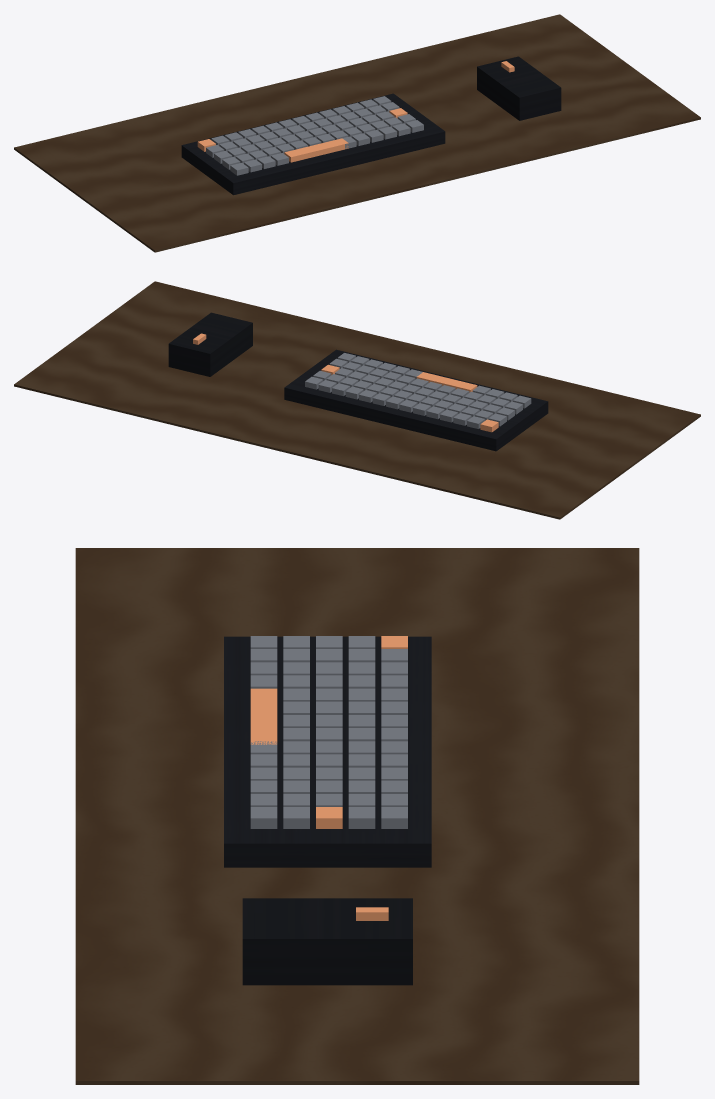
Rendered from mechanical_keyboard.glb.
The picture shows the model from 3 angles, top to bottom: view 1: azimuth 30°, elevation 25°; view 2: azimuth 150°, elevation 25°; view 3: azimuth 270°, elevation 25°; orthographic projection. The views are drawn at different scales.
Parts seen in each view (by area): view 1: Deskmat, Keycaps, KeyboardCase, Mouse, KeycapsAccent; view 2: Deskmat, Keycaps, KeyboardCase, Mouse, KeycapsAccent; view 3: Deskmat, Keycaps, KeyboardCase, Mouse, KeycapsAccent.
Part boxes in pixels (bbox=[...]): Deskmat: bbox=[14, 14, 700, 252]; Keycaps: bbox=[206, 96, 423, 175]; KeyboardCase: bbox=[181, 93, 445, 195]; Mouse: bbox=[477, 56, 561, 120]; KeycapsAccent: bbox=[197, 108, 407, 162]; Deskmat: bbox=[14, 281, 700, 519]; Keycaps: bbox=[305, 353, 531, 428]; KeyboardCase: bbox=[284, 349, 548, 451]; Mouse: bbox=[168, 312, 252, 376]; KeycapsAccent: bbox=[321, 364, 498, 432]; Deskmat: bbox=[75, 548, 639, 1084]; Keycaps: bbox=[250, 636, 407, 828]; KeyboardCase: bbox=[224, 636, 431, 867]; Mouse: bbox=[242, 898, 412, 985]; KeycapsAccent: bbox=[250, 636, 407, 828].
Bounding box in the file's own units: 0.85 × 0.044 × 0.38.
5 materials, 3 textured.
